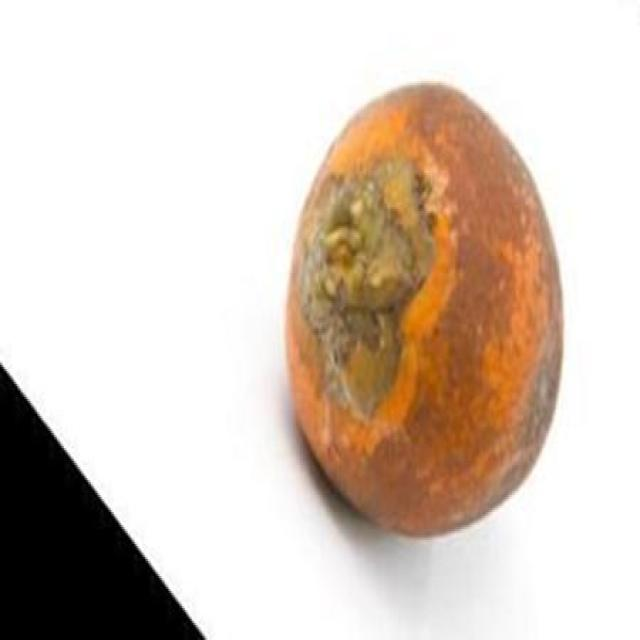good: (284, 87, 565, 542)
